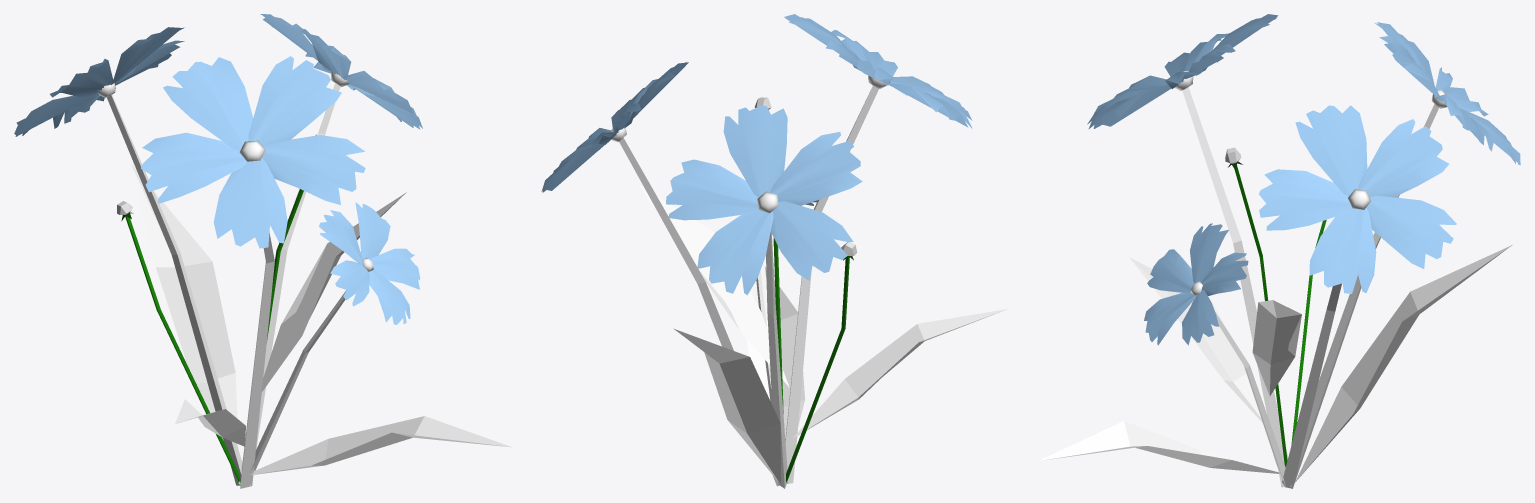
3 views of the same model, side by side, from view 1: azimuth 30°, elevation 25°; view 2: azimuth 150°, elevation 25°; view 3: azimuth 270°, elevation 25° (orthographic).
Visible parts, largest first — view 1: Circle.015; view 2: Circle.015; view 3: Circle.015.
Part boxes in pixels (x1,y1,x2,y2): Circle.015: [14, 14, 511, 488]; Circle.015: [541, 14, 1007, 488]; Circle.015: [1038, 14, 1520, 488].
Bounding box in the file's own units: 1.44 × 1.77 × 1.74.
